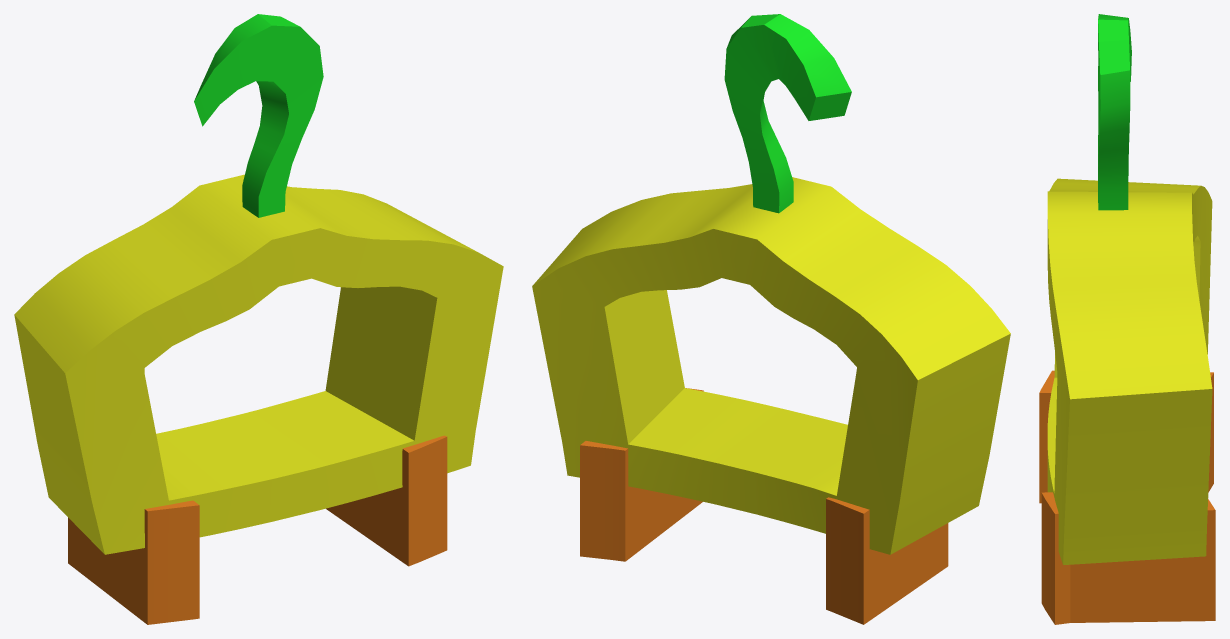
File: Trempel_Inner.fbx
The picture shows the model from 3 angles, left to right: view 1: azimuth 30°, elevation 25°; view 2: azimuth 150°, elevation 25°; view 3: azimuth 270°, elevation 25°; orthographic projection. The views are drawn at different scales.
Visible parts, largest first — view 1: Trempel_Inner; view 2: Trempel_Inner; view 3: Trempel_Inner.
Boxes of the visible parts, <box> form: Trempel_Inner: <box>14,14,503,624</box>; Trempel_Inner: <box>532,14,1010,624</box>; Trempel_Inner: <box>1039,14,1215,624</box>.
Size of the model in its own units: 25.27 by 30.07 by 9.01.
